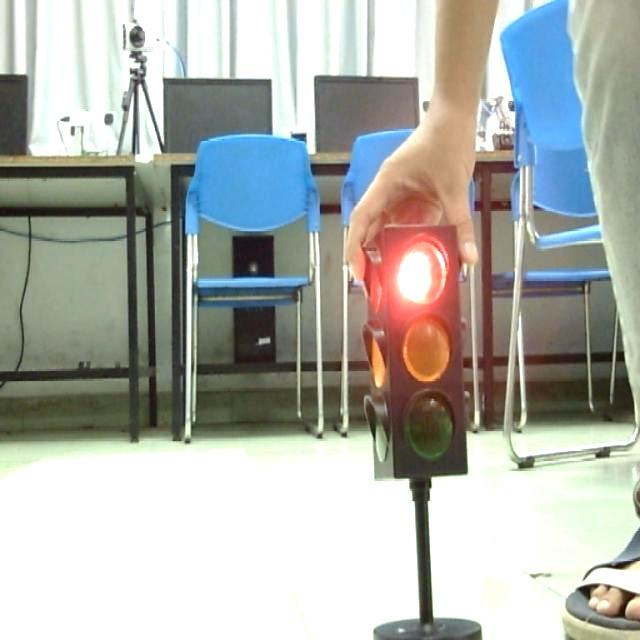Red: (394, 234, 456, 308)
